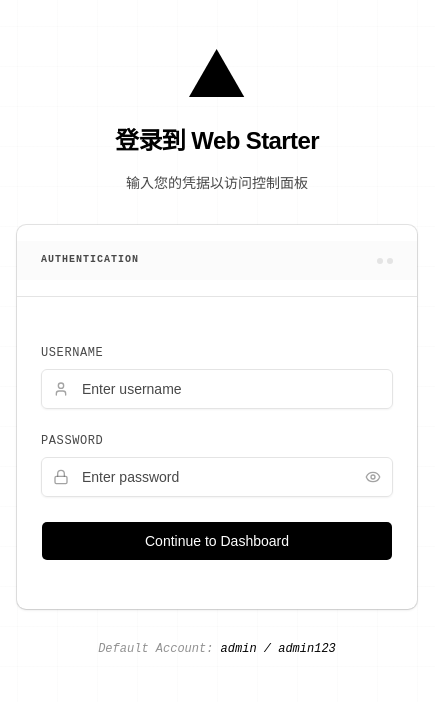
Test: LoginPage › 登录失败：显示错误提示
The image size is (435, 702).
In the field labelled "Username": (217, 389) [41,369,393,409], type "wronguser"
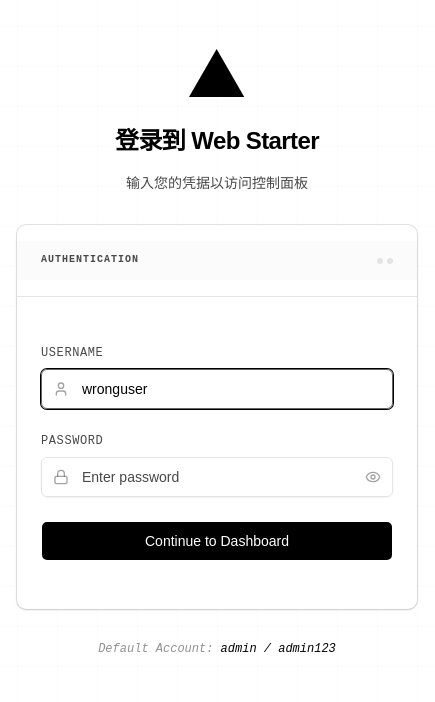
In the password field labelled "Password": (217, 477) [41,457,393,497], type "wrongpass"
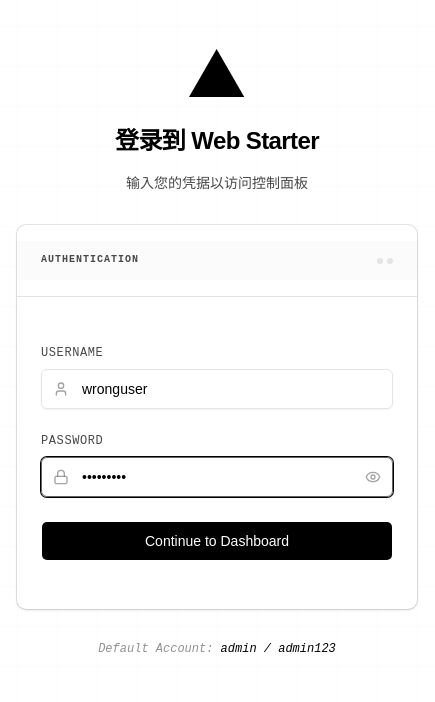
Click the button "Continue to Dashboard": click(217, 541) [41,521,393,561]
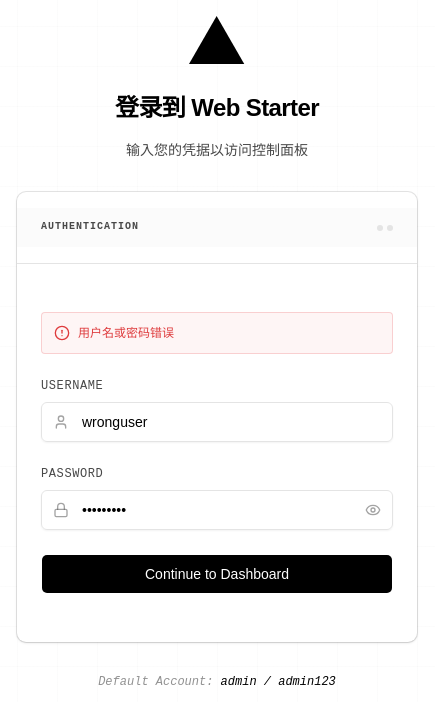
Now the text "用户名或密码错误" is shown, box [41,312,393,354]
